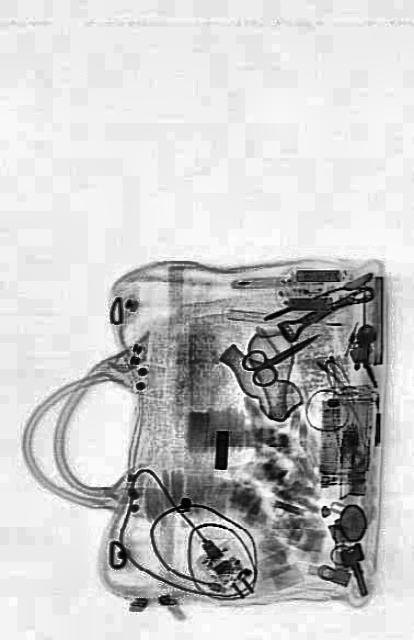Scissors: (240, 312, 326, 393)
